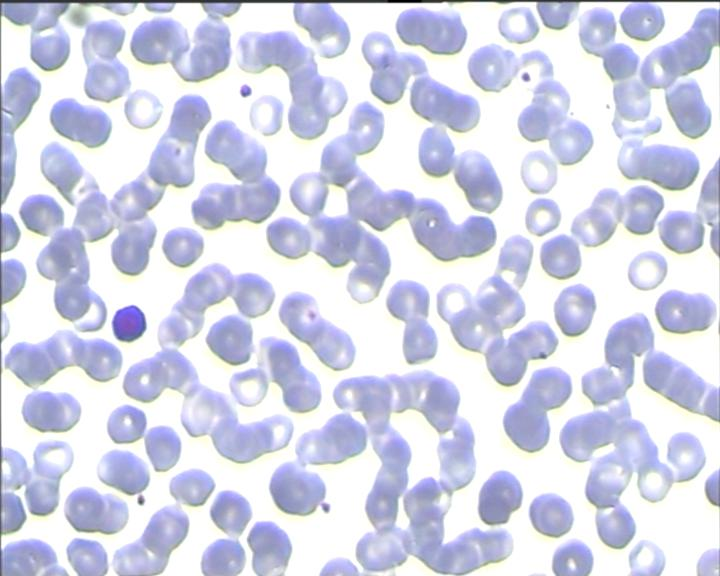lymp: (110, 301, 149, 346)
